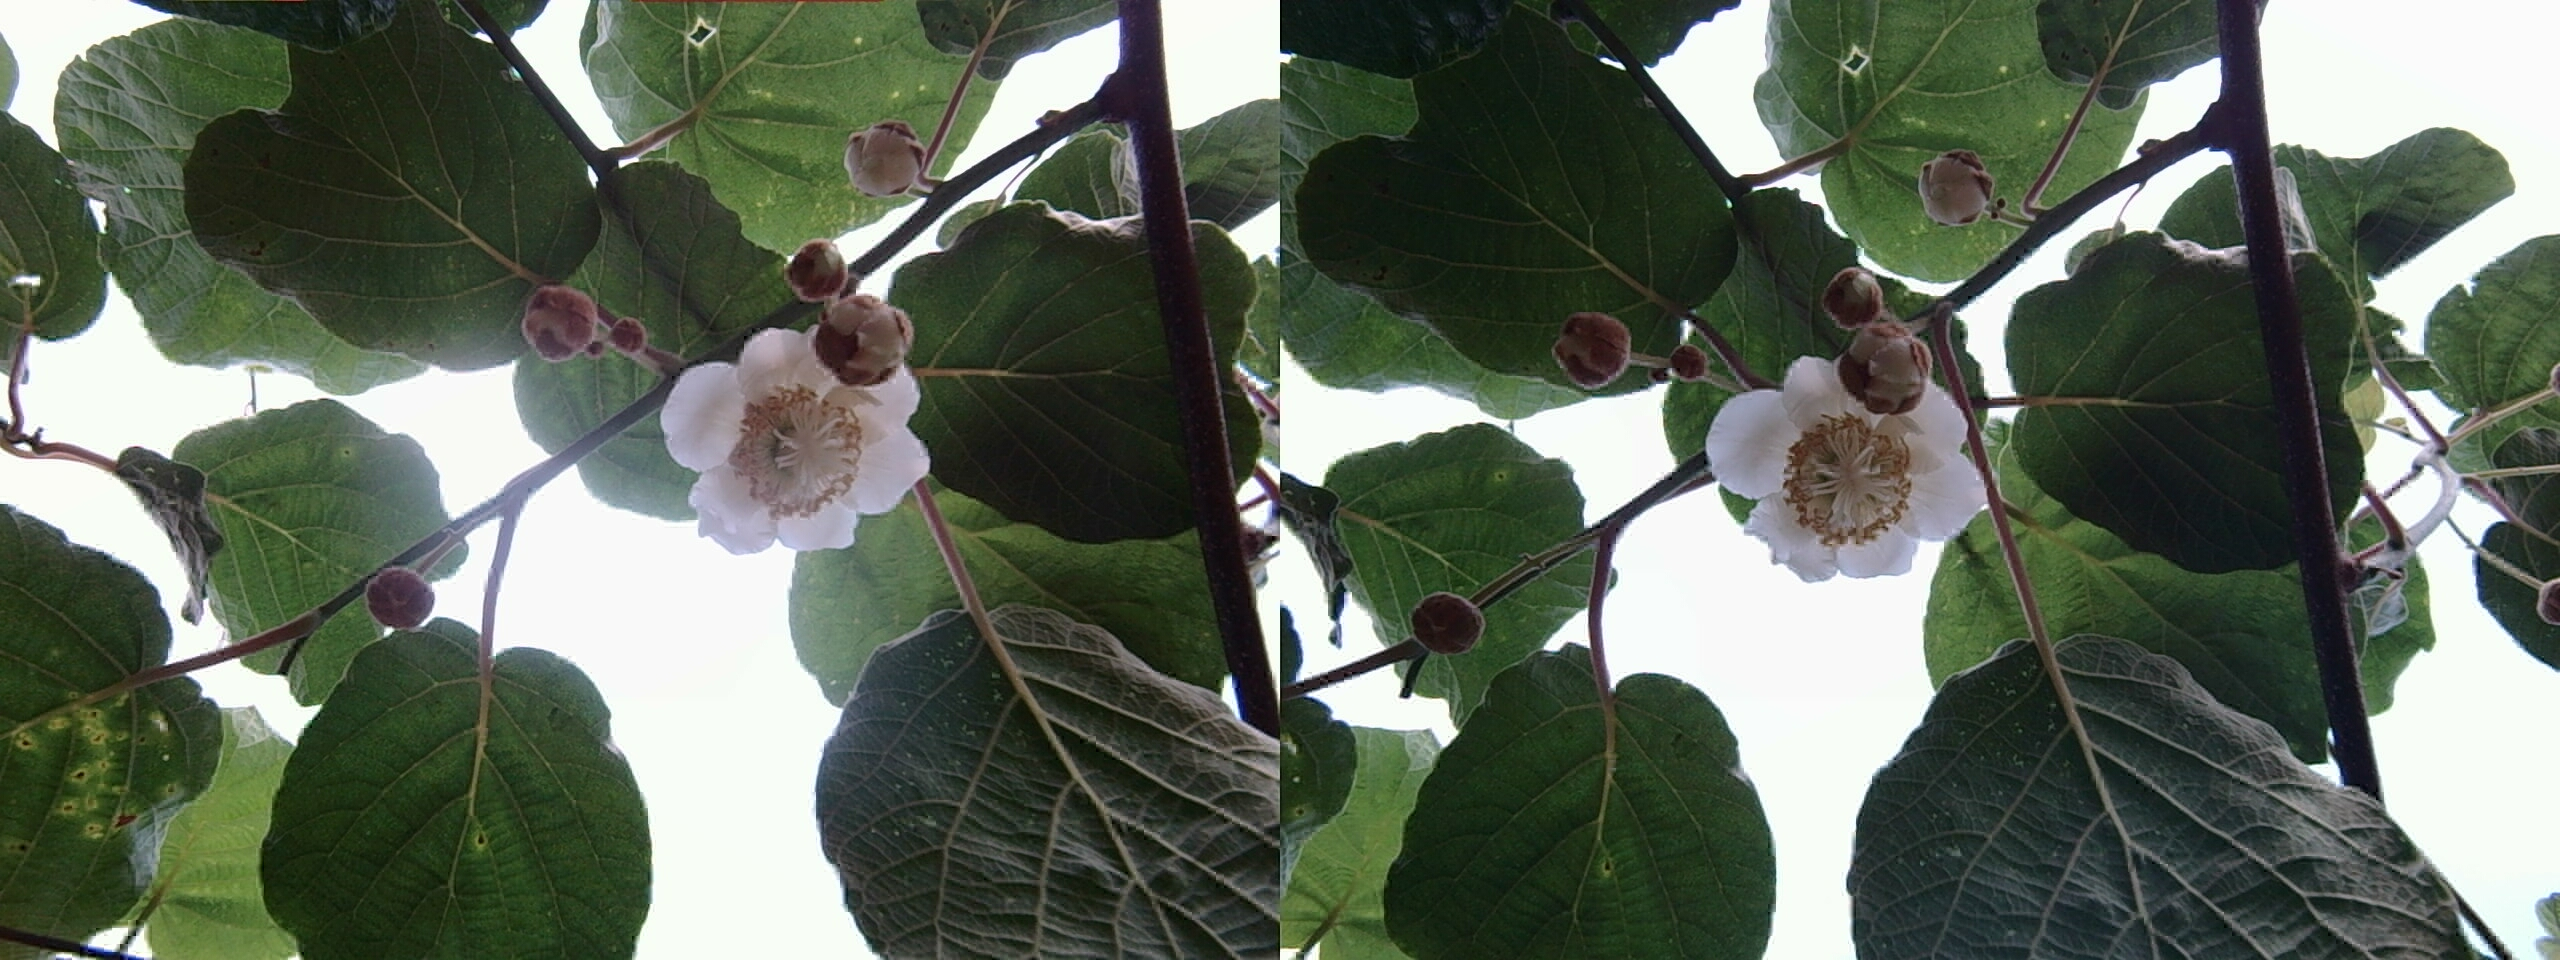flower: (1698, 331, 1979, 583), (651, 307, 924, 557)
